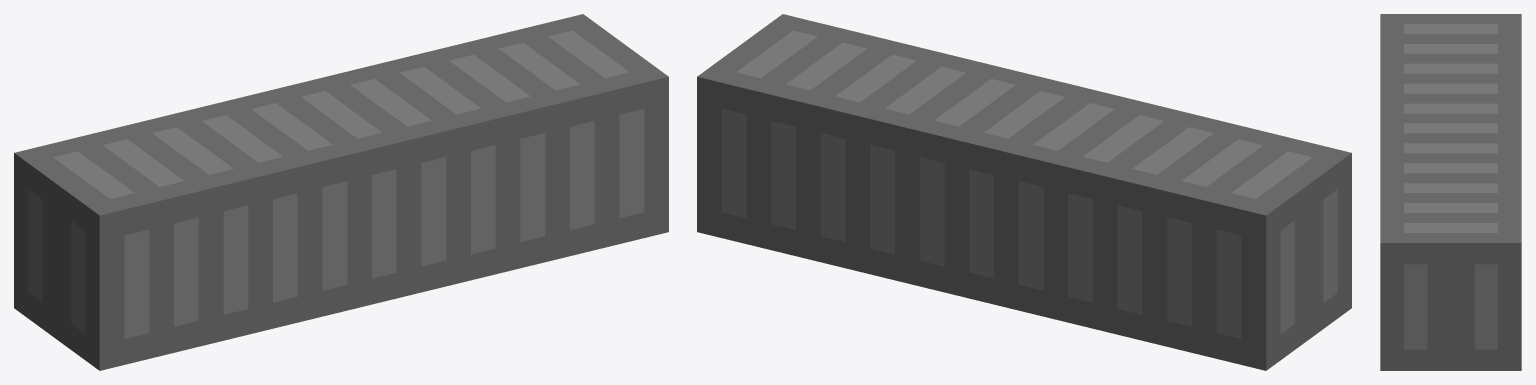
File: container-grey.gltf
3 renders of one model, left to right at view 1: azimuth 30°, elevation 25°; view 2: azimuth 150°, elevation 25°; view 3: azimuth 270°, elevation 25°, orthographic. The views are drawn at different scales.
Parts seen in each view (by area): view 1: model; view 2: model; view 3: model.
Boxes of the visible parts, left/top/right/bottom form: model: left=14, top=14, right=668, bottom=370; model: left=697, top=14, right=1351, bottom=370; model: left=1380, top=14, right=1521, bottom=370.
Bounding box in the file's own units: 2.3 × 0.6 × 0.6.
1 material, 1 textured.
